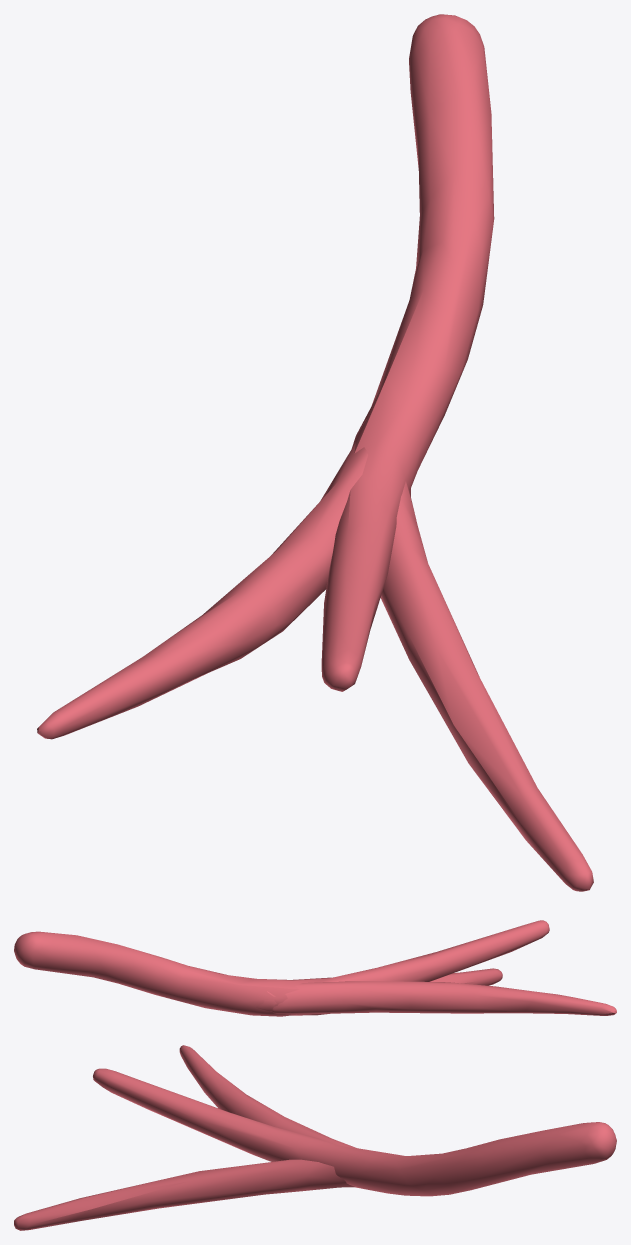
The model's file is fma68944_cx195.glb.
The picture shows the model from 3 angles, top to bottom: view 1: azimuth 30°, elevation 25°; view 2: azimuth 150°, elevation 25°; view 3: azimuth 270°, elevation 25°; orthographic projection. The views are drawn at different scales.
Visible parts, largest first — view 1: FMA68944_CX195; view 2: FMA68944_CX195; view 3: FMA68944_CX195.
Boxes of the visible parts, bbox=[...] form: FMA68944_CX195: bbox=[37, 14, 593, 891]; FMA68944_CX195: bbox=[14, 920, 616, 1016]; FMA68944_CX195: bbox=[14, 1045, 616, 1230].
Size of the model in its own units: 0.0608 by 0.0275 by 0.0713.
